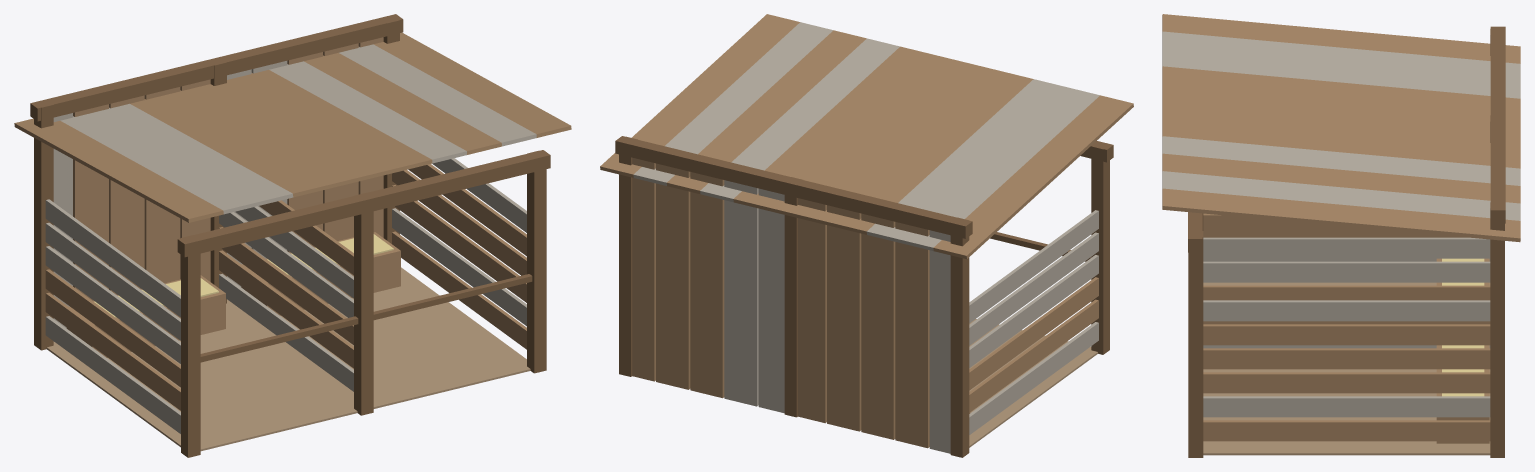
File: SM_Stable_Stall.glb
The picture shows the model from 3 angles, left to right: view 1: azimuth 30°, elevation 25°; view 2: azimuth 150°, elevation 25°; view 3: azimuth 270°, elevation 25°; orthographic projection. The views are drawn at different scales.
Parts seen in each view (by area): view 1: SM_Stable_Stall; view 2: SM_Stable_Stall; view 3: SM_Stable_Stall.
Boxes of the visible parts, <box> form: SM_Stable_Stall: <box>14,14,571,457</box>; SM_Stable_Stall: <box>600,14,1133,457</box>; SM_Stable_Stall: <box>1162,14,1520,457</box>.
Size of the model in its own units: 4.29 by 2.69 by 3.39.
